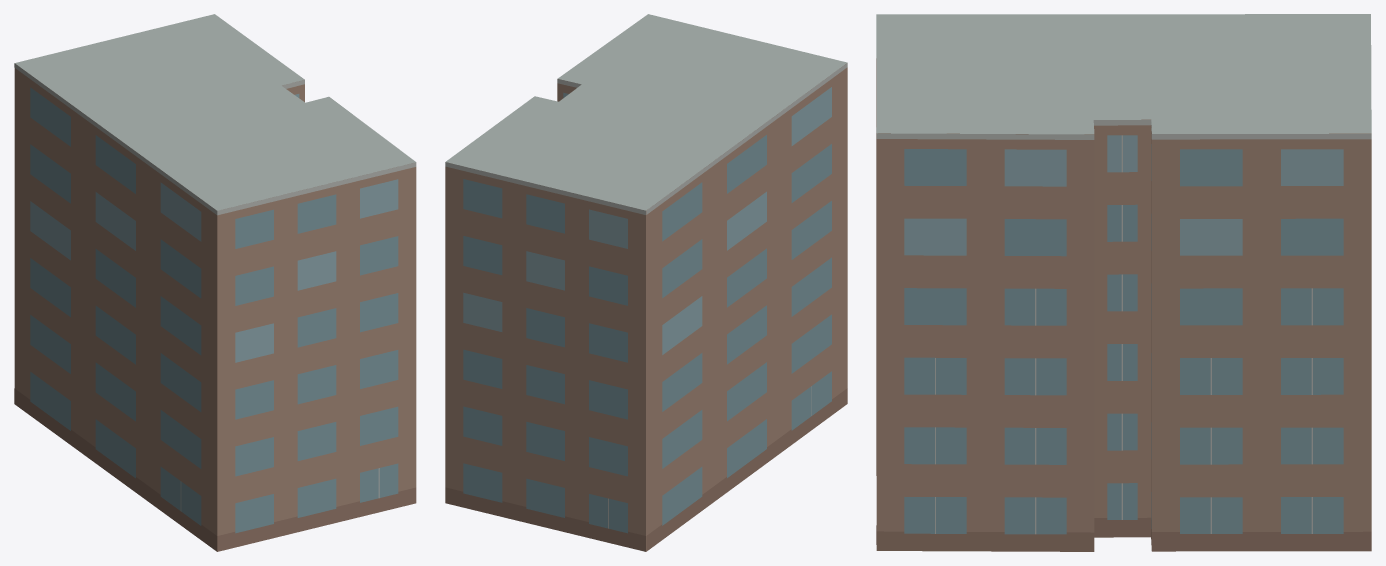
Rendered from survey-upis-32749162.glb.
3 renders of one model, left to right at view 1: azimuth 30°, elevation 25°; view 2: azimuth 150°, elevation 25°; view 3: azimuth 270°, elevation 25°, orthographic. The views are drawn at different scales.
Visible parts, largest first — view 1: survey-upis-32749162.tmp; view 2: survey-upis-32749162.tmp; view 3: survey-upis-32749162.tmp.
Part boxes in pixels (x1,y1,x2,y2): survey-upis-32749162.tmp: [14, 14, 416, 551]; survey-upis-32749162.tmp: [445, 14, 847, 551]; survey-upis-32749162.tmp: [876, 14, 1371, 551].
Bounding box in the file's own units: 11.33 × 18.3 × 19.69.
